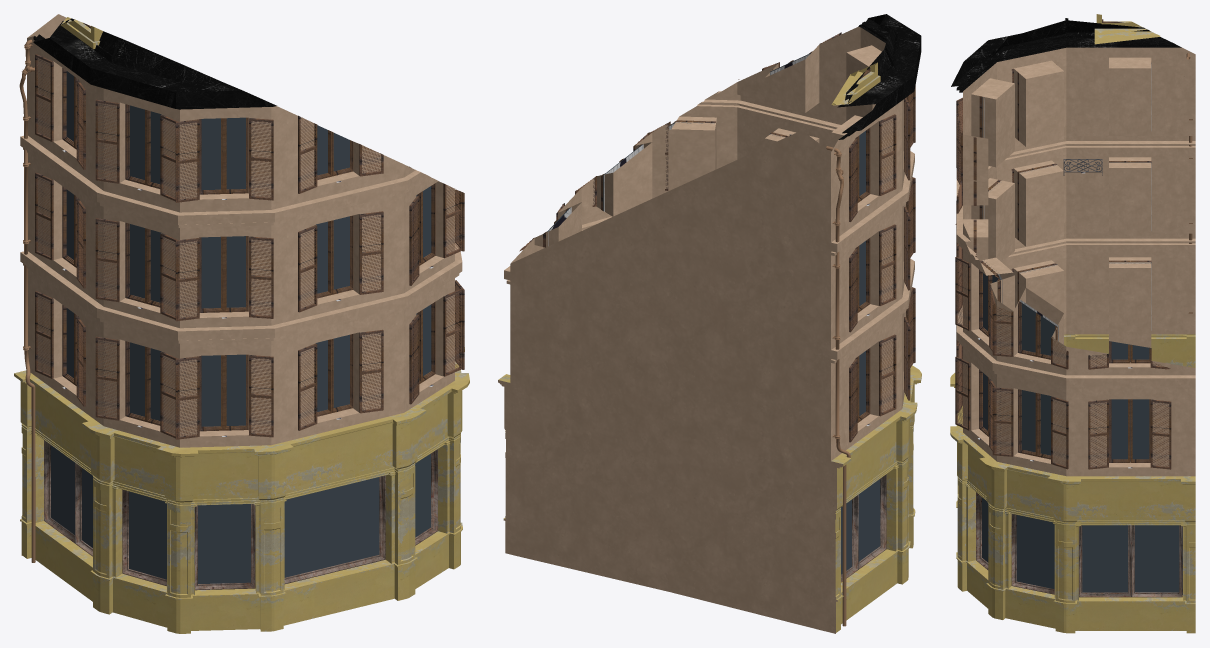
Rendered from ruin_end.fbx.
3 views of the same model, side by side, from view 1: azimuth 30°, elevation 25°; view 2: azimuth 150°, elevation 25°; view 3: azimuth 270°, elevation 25° (orthographic). The views are drawn at different scales.
Parts seen in each view (by area): view 1: ruin_end; view 2: ruin_end; view 3: ruin_end.
Part boxes in pixels (<box>): ruin_end: <box>14,14,469,633</box>; ruin_end: <box>498,14,921,633</box>; ruin_end: <box>950,14,1195,633</box>.
Size of the model in its own units: 1024 by 695 by 1498.
12 materials, 9 textured.
